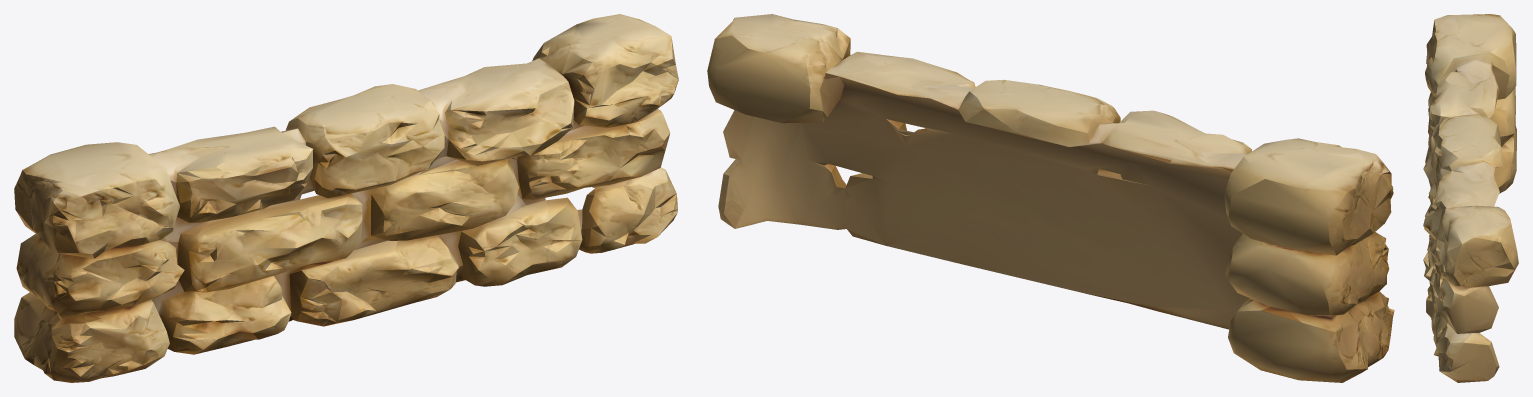
The model's file is stone_border.glb.
3 renders of one model, left to right at view 1: azimuth 30°, elevation 25°; view 2: azimuth 150°, elevation 25°; view 3: azimuth 270°, elevation 25°, orthographic. The views are drawn at different scales.
Parts seen in each view (by area): view 1: tripo_node_04738721-930c-4eb5-8032-66aaee5c0d6c; view 2: tripo_node_04738721-930c-4eb5-8032-66aaee5c0d6c; view 3: tripo_node_04738721-930c-4eb5-8032-66aaee5c0d6c.
Part boxes in pixels (<box>): tripo_node_04738721-930c-4eb5-8032-66aaee5c0d6c: <box>14,14,678,382</box>; tripo_node_04738721-930c-4eb5-8032-66aaee5c0d6c: <box>707,14,1394,382</box>; tripo_node_04738721-930c-4eb5-8032-66aaee5c0d6c: <box>1423,14,1518,382</box>.
Bounding box in the file's own units: 1.25 × 0.3789 × 0.2172.
Materials: 1 (1 with a texture image).
